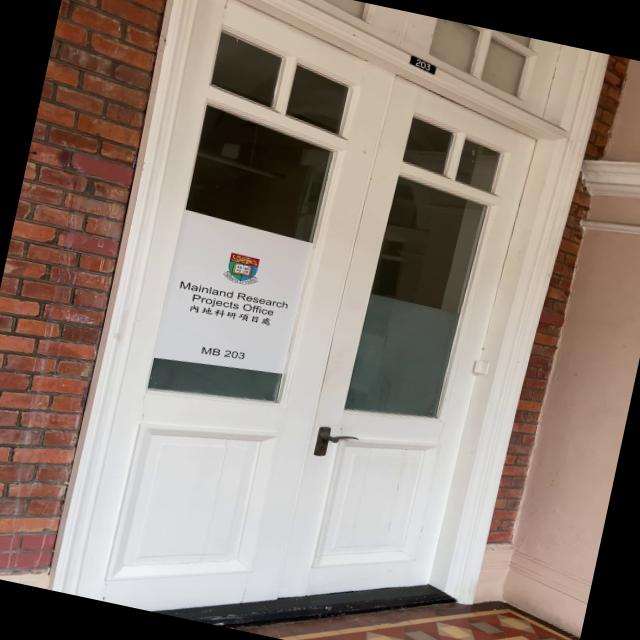room203: (404, 54, 441, 77)
room203Window: (189, 339, 252, 365)
